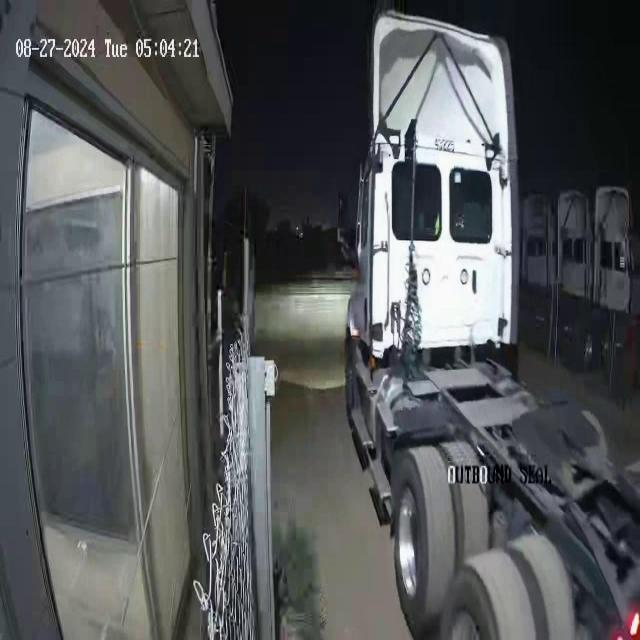BOBTAIL: (334, 9, 639, 637)
